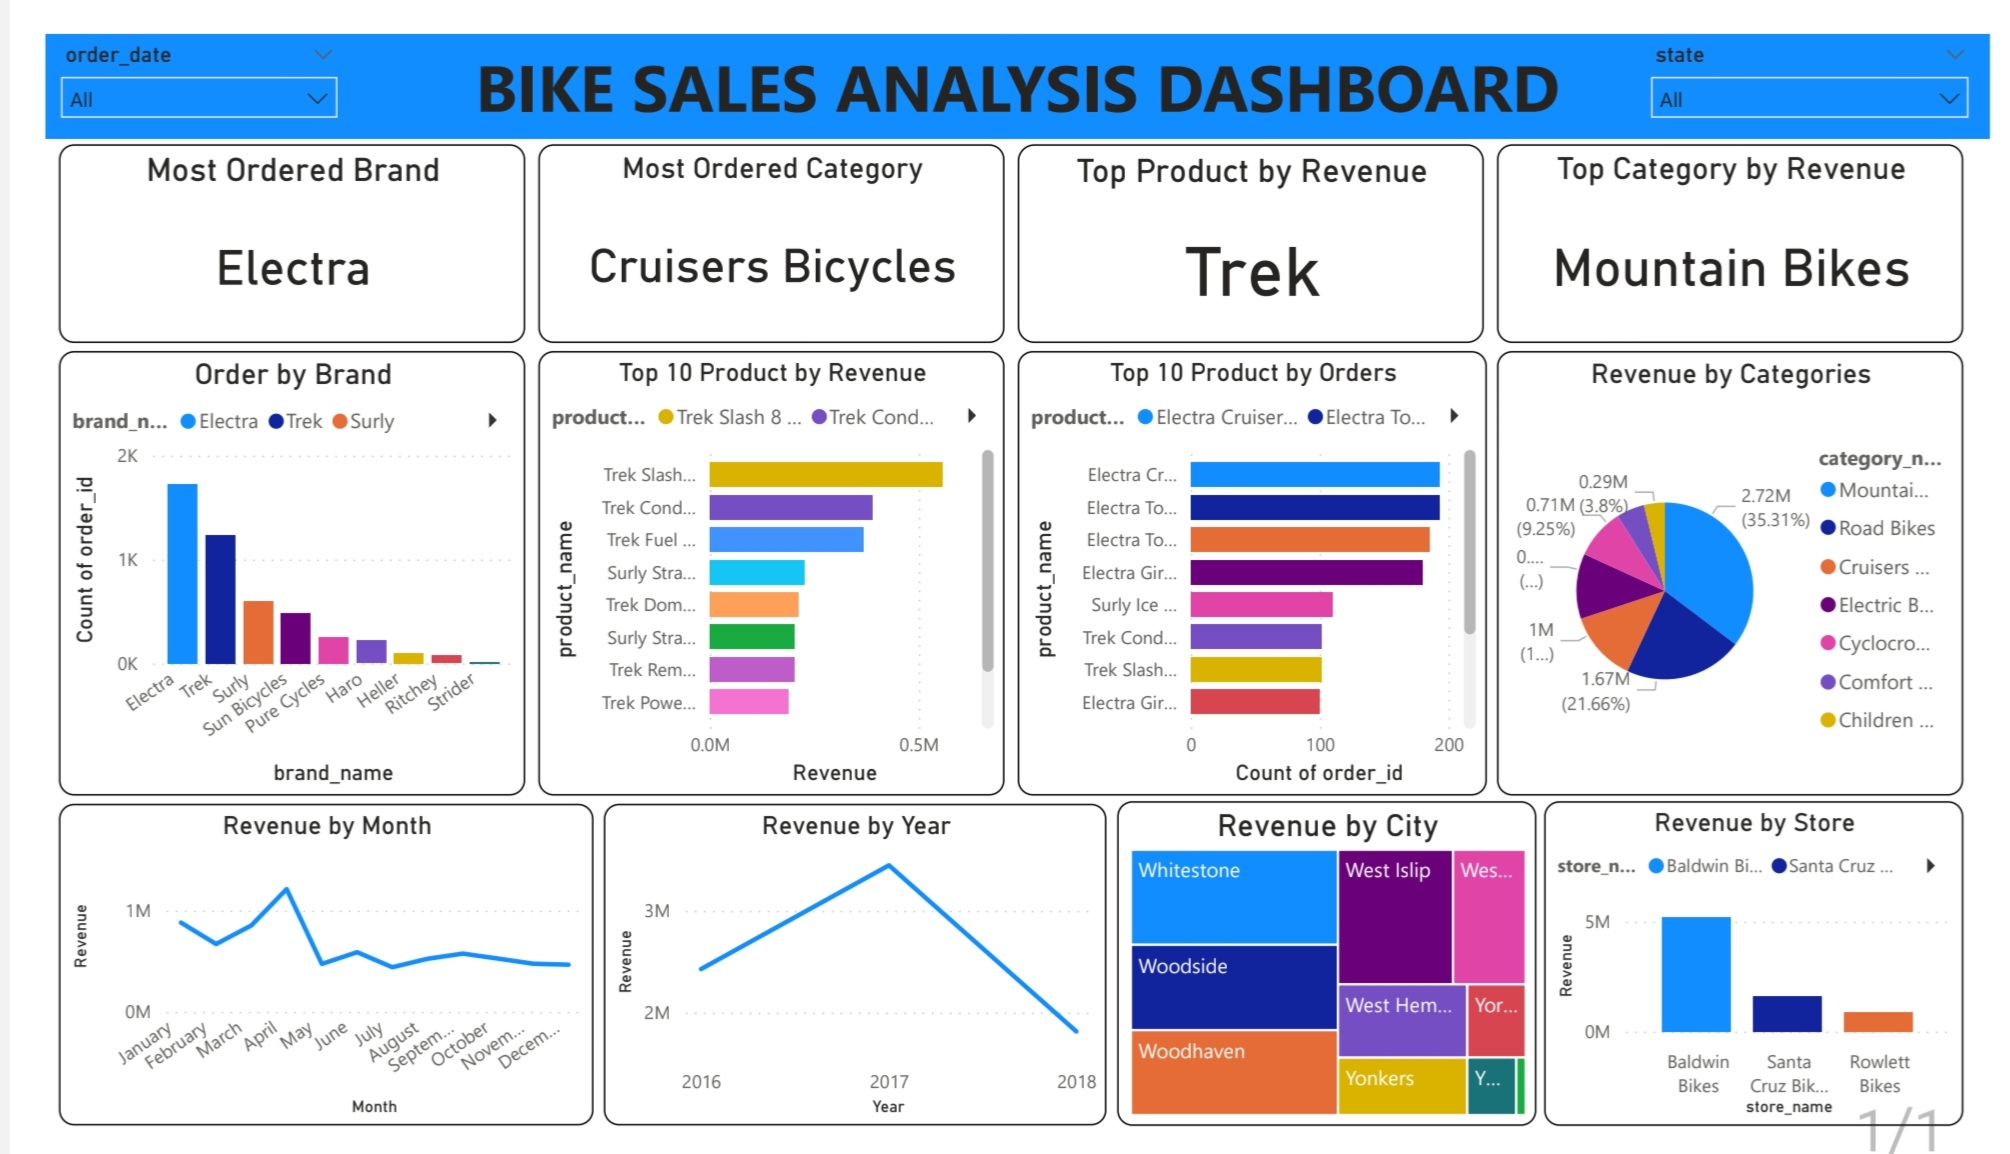

The dashboard page shown, as its layout file describes it:
{"tool":"powerbi","page":{"name":"Page 1","canvas":[1280,720],"ordinal":0},"visuals":[{"type":"columnChart","title":"Order by Brand","fields":{"Category":["brands.brand_name"],"Y":["CountNonNull(order_items.order_id)"],"Series":["brands.brand_name"]},"box":[8.6,208.7,307.1,293.3],"z":0},{"type":"card","title":"Most Ordered Brand","fields":{"Values":["brands.Most Ordered Brand"]},"box":[8.6,72.5,307,131.1],"z":1000},{"type":"card","title":"Most Ordered Category","fields":{"Values":["brands.Most ordered Category"]},"box":[324.3,72.5,307.1,131.1],"z":2000},{"type":"barChart","title":"Top 10 Product by Orders","fields":{"Y":["CountNonNull(order_items.order_id)"],"Category":["products.product_name"],"Series":["products.product_name"]},"box":[640,208.7,308.8,293.3],"z":3000},{"type":"card","title":"Top Product by Revenue","fields":{"Values":["brands.Top selling brand"]},"box":[640,72.5,307.1,131.1],"z":4000},{"type":"barChart","title":"Top 10 Product by Revenue","fields":{"Y":["brands.GRRR"],"Category":["products.product_name"],"Series":["products.product_name"]},"box":[324.3,208.7,307.1,293.3],"z":5000},{"type":"lineChart","title":"Revenue by Month","fields":{"Y":["brands.Revenue"],"Category":["orders.order_date.Variation.Date Hierarchy.Month"]},"box":[8.6,507.2,351.9,212.2],"z":6000},{"type":"pieChart","title":"Revenue by Categories","fields":{"Category":["categories.category_name"],"Y":["brands.Revenue"]},"box":[955.7,208.7,307.1,293.3],"z":7000},{"type":"lineChart","fields":{"Category":["orders.order_date.Variation.Date Hierarchy.Year"],"Y":["brands.Revenue"]},"box":[367.4,507.2,331.2,212.2],"z":8000},{"type":"card","title":"Top Category by Revenue","fields":{"Values":["brands.Top Brand BY Revenue"]},"box":[955.7,72.5,307.1,131.1],"z":9000},{"type":"treemap","title":"Revenue by City","fields":{"Values":["brands.Revenue"],"Group":["customers.city"]},"box":[705.6,505.4,276,213.9],"z":10000},{"type":"columnChart","title":"Revenue by Store","fields":{"Category":["stores.store_name"],"Y":["brands.Revenue"],"Series":["stores.store_name"]},"box":[986.7,505.4,276,213.9],"z":11000},{"type":"textbox","box":[0,0,1280,69],"z":12000},{"type":"slicer","fields":{"Values":["orders.order_date"]},"box":[0,0,201.8,58.7],"z":13000},{"type":"slicer","fields":{"Values":["customers.state"]},"box":[1047.1,0,229.4,62.1],"z":14000}]}

Visuals, with their boxes in screenshot pixels (x1, y1, x2, y2), scaled from the page's 1280x720 canvas onto the 2010x1154 screenshot:
"Order by Brand" columnChart: <bbox>14, 334, 496, 805</bbox>
"Most Ordered Brand" card: <bbox>14, 116, 496, 326</bbox>
"Most Ordered Category" card: <bbox>509, 116, 991, 326</bbox>
"Top 10 Product by Orders" barChart: <bbox>1005, 334, 1490, 805</bbox>
"Top Product by Revenue" card: <bbox>1005, 116, 1487, 326</bbox>
"Top 10 Product by Revenue" barChart: <bbox>509, 334, 991, 805</bbox>
"Revenue by Month" lineChart: <bbox>14, 813, 566, 1153</bbox>
"Revenue by Categories" pieChart: <bbox>1501, 334, 1983, 805</bbox>
lineChart - orders.order_date.Variation.Date Hierarchy.Year x brands.Revenue: <bbox>577, 813, 1097, 1153</bbox>
"Top Category by Revenue" card: <bbox>1501, 116, 1983, 326</bbox>
"Revenue by City" treemap: <bbox>1108, 810, 1541, 1153</bbox>
"Revenue by Store" columnChart: <bbox>1549, 810, 1983, 1153</bbox>
textbox: <bbox>0, 0, 2009, 111</bbox>
slicer - orders.order_date: <bbox>0, 0, 317, 94</bbox>
slicer - customers.state: <bbox>1644, 0, 2005, 100</bbox>
